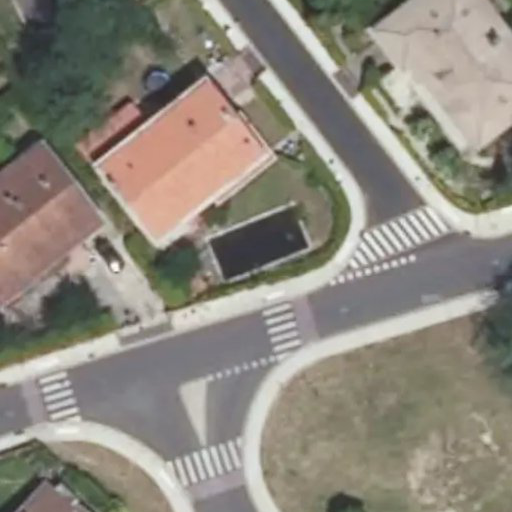pool: (201, 233, 310, 249)
